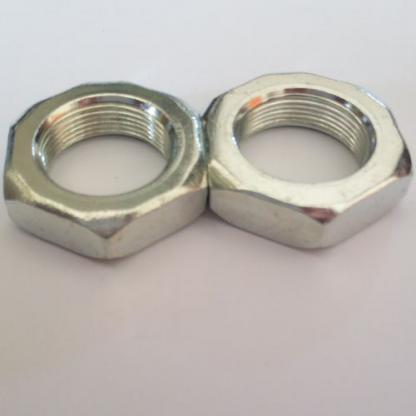FOD: (200, 70, 415, 253), (3, 80, 207, 263)
